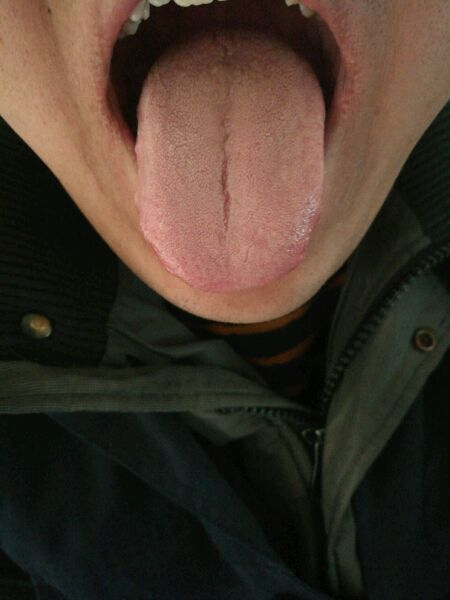huangtaishe: (135, 24, 325, 292)
liewenshe: (214, 115, 233, 233)
